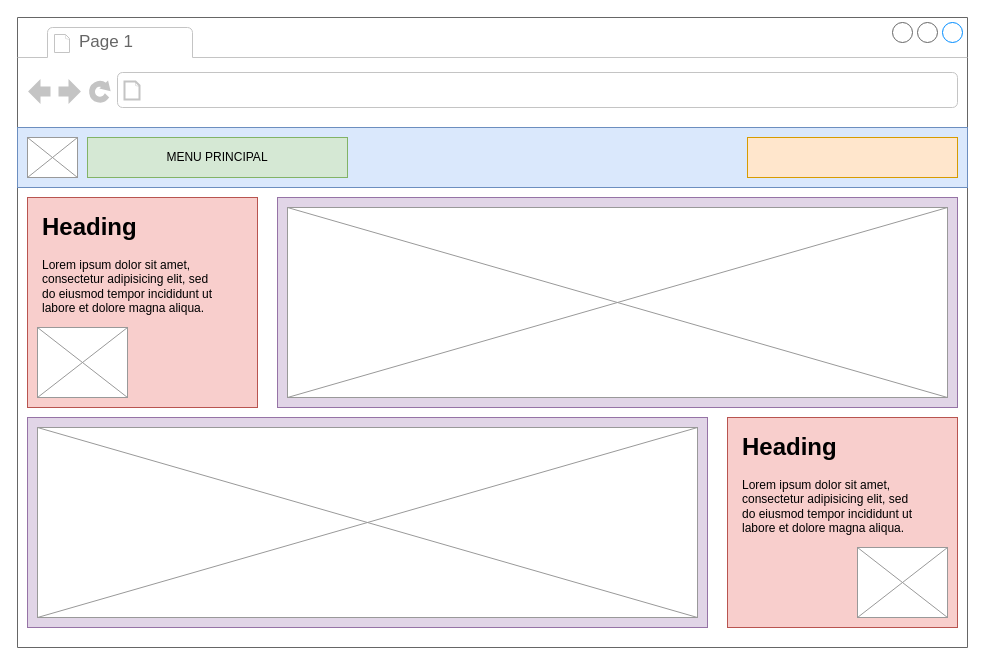
This 985x665 diagram has some shape labels left out. The shapes that lost their labels are listed below. From the top down, each one's box as (x1, y1, x2, y2) in pixels, then its label:
(146, 76, 398, 104): https://www.draw.io
(746, 136, 958, 178): MENU SECUNDARIO
